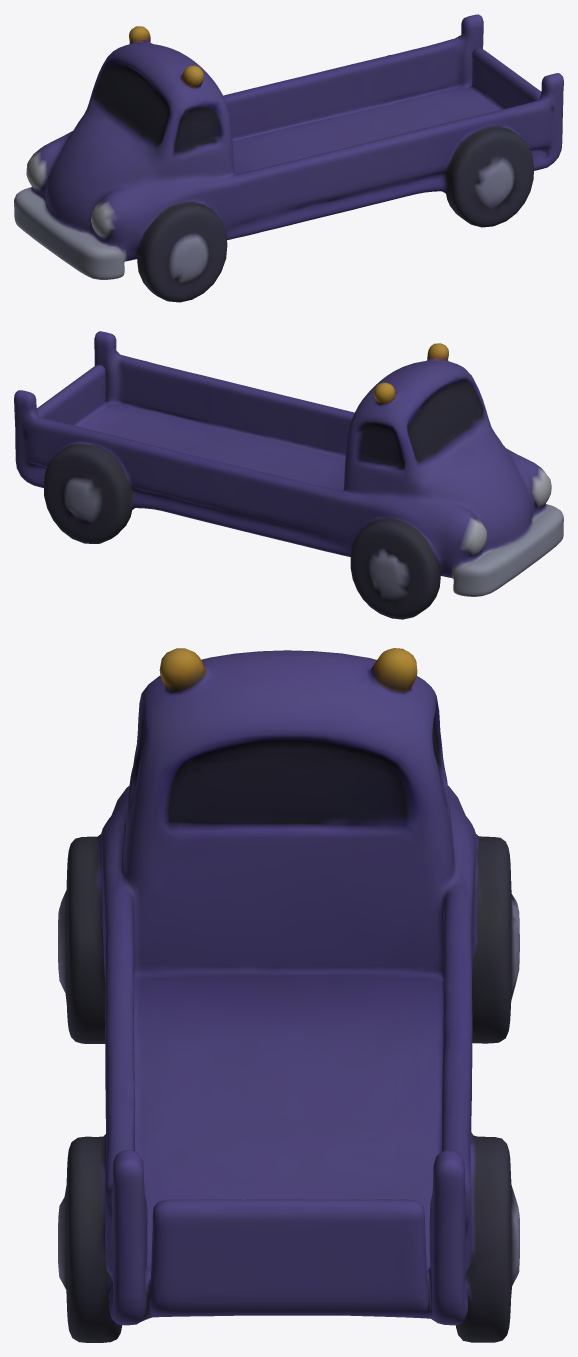
The model's file is bin.glb.
The picture shows the model from 3 angles, top to bottom: view 1: azimuth 30°, elevation 25°; view 2: azimuth 150°, elevation 25°; view 3: azimuth 270°, elevation 25°; orthographic projection. The views are drawn at different scales.
Parts seen in each view (by area): view 1: bin; view 2: bin; view 3: bin.
Boxes of the visible parts, x1,y1,x2,y2 form: bin: (14, 14, 563, 302); bin: (14, 331, 563, 619); bin: (58, 648, 519, 1342).
Bounding box in the file's own units: 1 × 0.4195 × 0.421.
